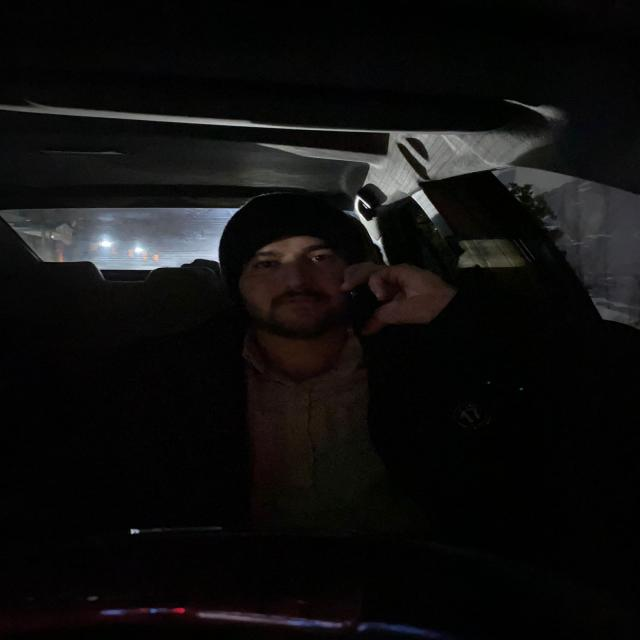mobile: (352, 254, 387, 337)
person: (235, 195, 358, 336)
